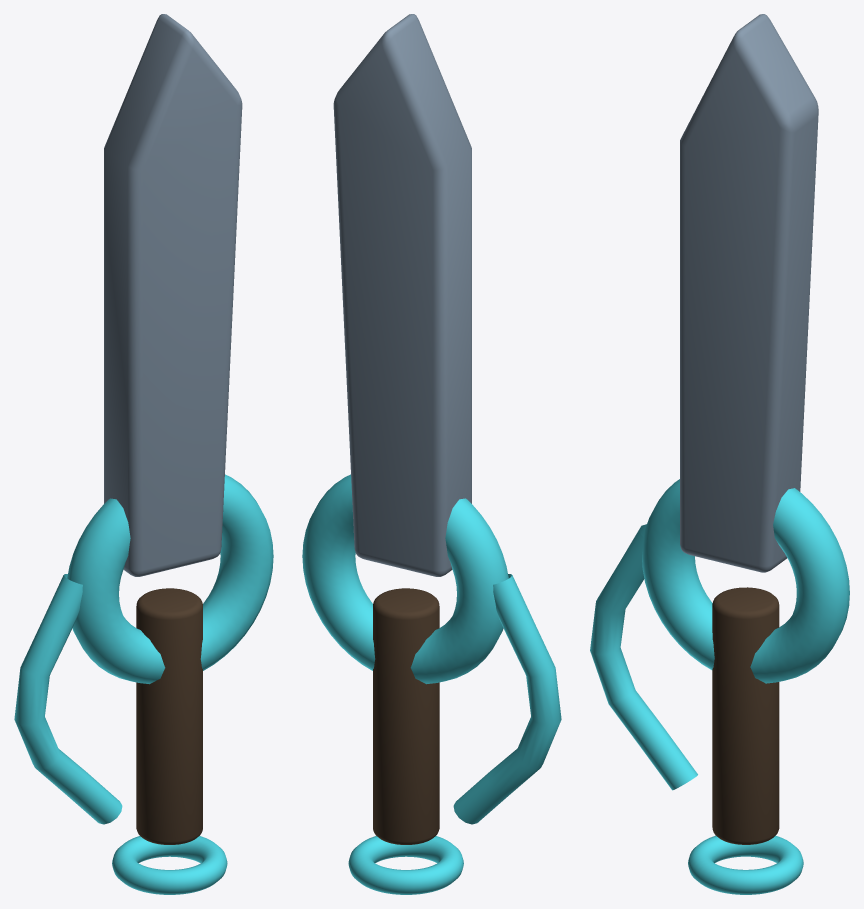
The model's file is dagger_v5.glb.
The picture shows the model from 3 angles, left to right: view 1: azimuth 30°, elevation 25°; view 2: azimuth 150°, elevation 25°; view 3: azimuth 330°, elevation 25°; orthographic projection.
Parts seen in each view (by area): view 1: TANTO_BLADE_PRIMARY, TANTO_CUP_GUARD_ACCENT, GRIP_SECONDARY, TANTO_KNUCKLE_BOW_ACCENT, POMMEL_ACCENT; view 2: TANTO_BLADE_PRIMARY, TANTO_CUP_GUARD_ACCENT, GRIP_SECONDARY, TANTO_KNUCKLE_BOW_ACCENT, POMMEL_ACCENT; view 3: TANTO_BLADE_PRIMARY, TANTO_CUP_GUARD_ACCENT, GRIP_SECONDARY, TANTO_KNUCKLE_BOW_ACCENT, POMMEL_ACCENT.
Part boxes in pixels (x1,y1,x2,y2): TANTO_BLADE_PRIMARY: (104,14,242,576); TANTO_CUP_GUARD_ACCENT: (67,474,273,684); GRIP_SECONDARY: (136,588,202,844); TANTO_KNUCKLE_BOW_ACCENT: (14,574,122,824); POMMEL_ACCENT: (112,836,227,894); TANTO_BLADE_PRIMARY: (333,14,471,576); TANTO_CUP_GUARD_ACCENT: (302,474,508,684); GRIP_SECONDARY: (373,588,439,844); TANTO_KNUCKLE_BOW_ACCENT: (453,574,561,824); POMMEL_ACCENT: (348,836,463,894); TANTO_BLADE_PRIMARY: (680,14,818,572); TANTO_CUP_GUARD_ACCENT: (642,479,849,683); GRIP_SECONDARY: (712,587,779,844); TANTO_KNUCKLE_BOW_ACCENT: (590,524,697,790); POMMEL_ACCENT: (688,835,803,894).
Size of the model in its own units: 1.05 by 3.37 by 0.414.
